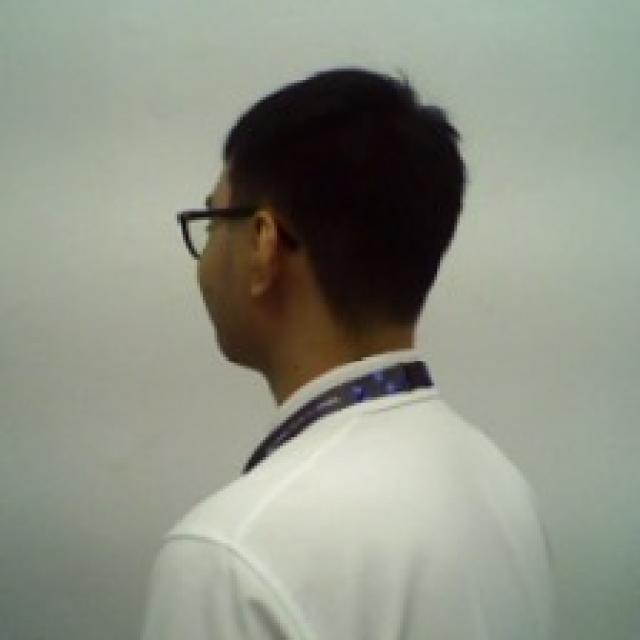no_gloves: (210, 58, 474, 327)
